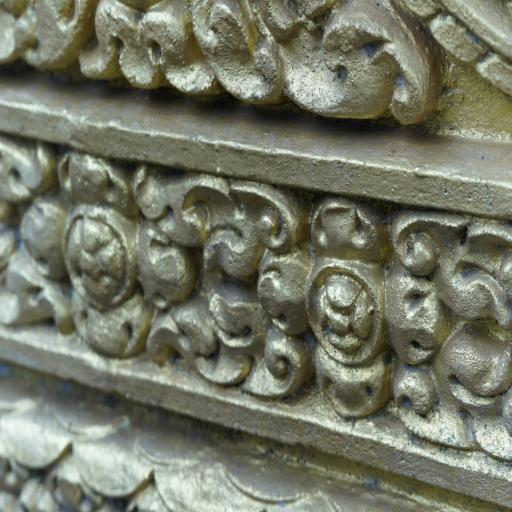hoa: (250, 187, 442, 422), (19, 140, 187, 372)
la: (138, 288, 300, 407), (137, 165, 303, 275), (403, 319, 512, 458), (395, 202, 512, 330)
